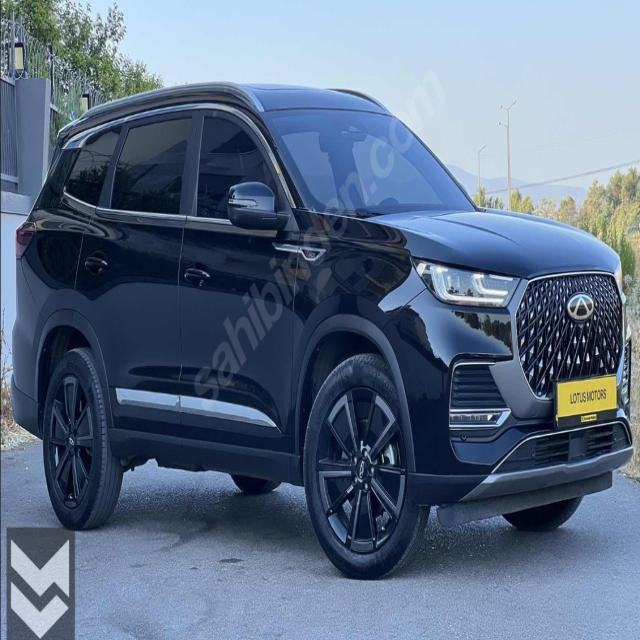cherry: (565, 291, 596, 325)
